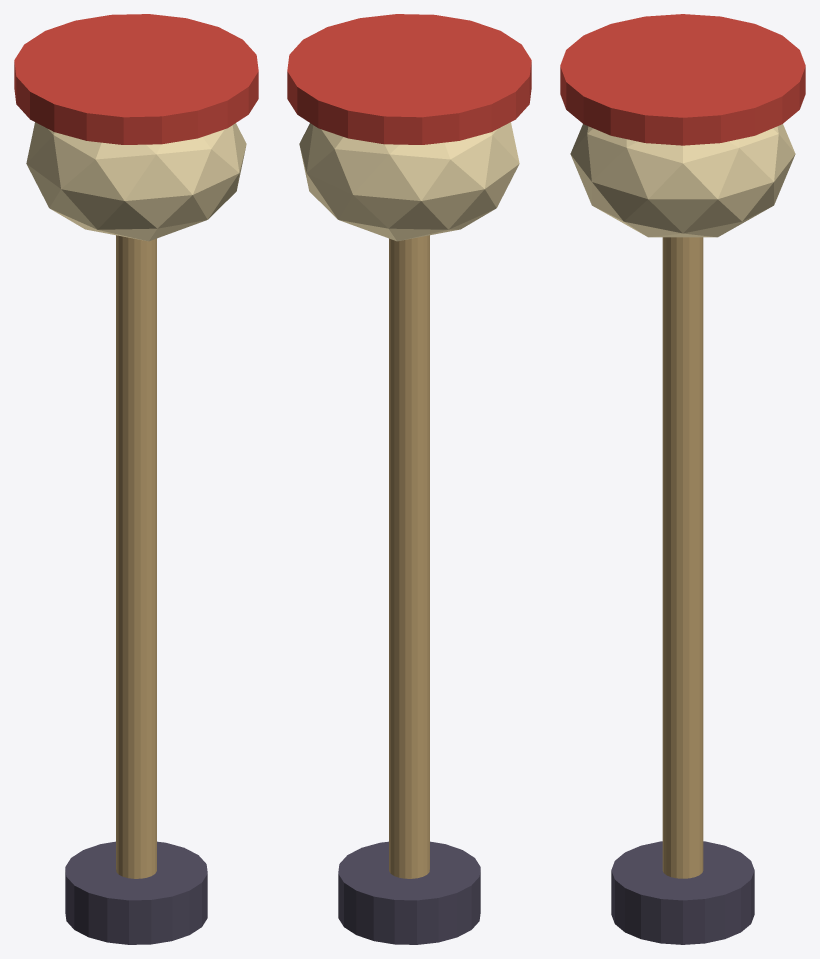
3 renders of one model, left to right at view 1: azimuth 30°, elevation 25°; view 2: azimuth 150°, elevation 25°; view 3: azimuth 270°, elevation 25°, orthographic.
Visible parts, largest first — view 1: RC-022 Globe street lamp batched; view 2: RC-022 Globe street lamp batched; view 3: RC-022 Globe street lamp batched.
Boxes of the visible parts, box(x1,y1,x2,y2) form: RC-022 Globe street lamp batched: box(14, 14, 258, 944); RC-022 Globe street lamp batched: box(287, 14, 531, 944); RC-022 Globe street lamp batched: box(560, 14, 805, 944).
Size of the model in its own units: 1.2 by 4.57 by 1.2.
